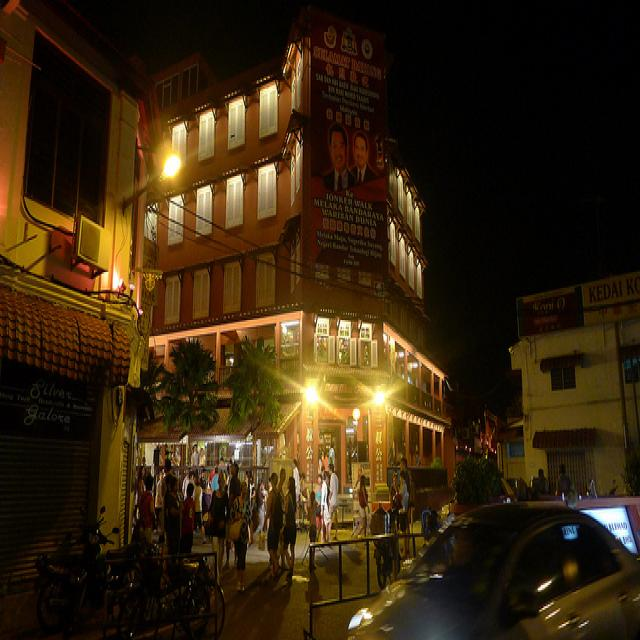Car: (346, 512, 639, 640)
Motorbike: (57, 517, 173, 623), (148, 539, 239, 630)
